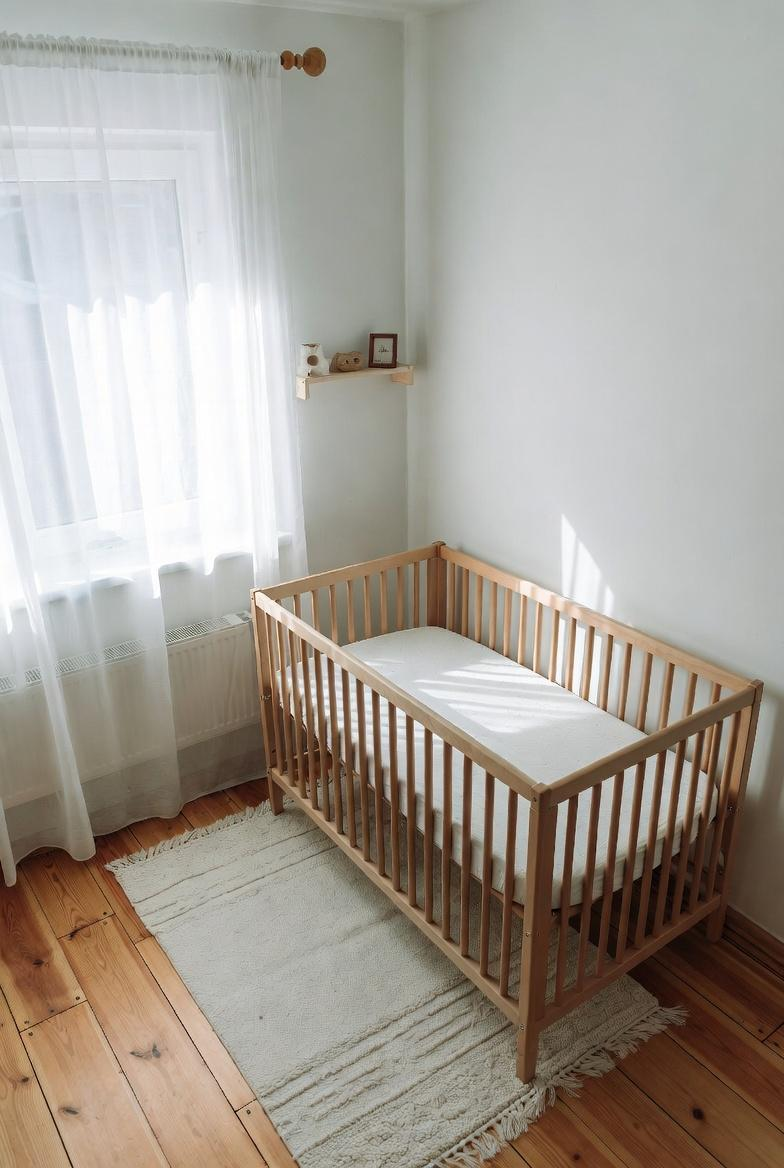crib: (252, 543, 762, 1081)
